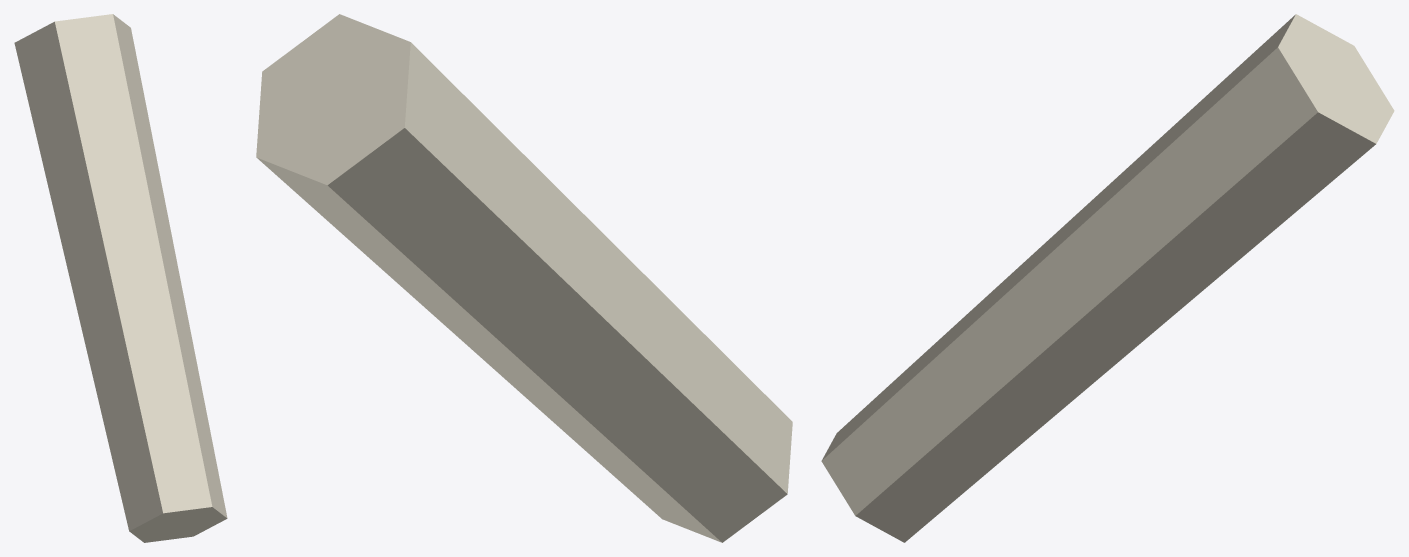
The model's file is rm2_arm_r_upper.obj.
3 renders of one model, left to right at view 1: azimuth 30°, elevation 25°; view 2: azimuth 150°, elevation 25°; view 3: azimuth 270°, elevation 25°, orthographic. The views are drawn at different scales.
Parts seen in each view (by area): view 1: rm2_arm_r_upper; view 2: rm2_arm_r_upper; view 3: rm2_arm_r_upper.
Part boxes in pixels (x1,y1,x2,y2): rm2_arm_r_upper: (14, 14, 227, 542); rm2_arm_r_upper: (256, 14, 792, 542); rm2_arm_r_upper: (821, 14, 1394, 542).
Size of the model in its own units: 0.1409 by 0.3296 by 0.32.
